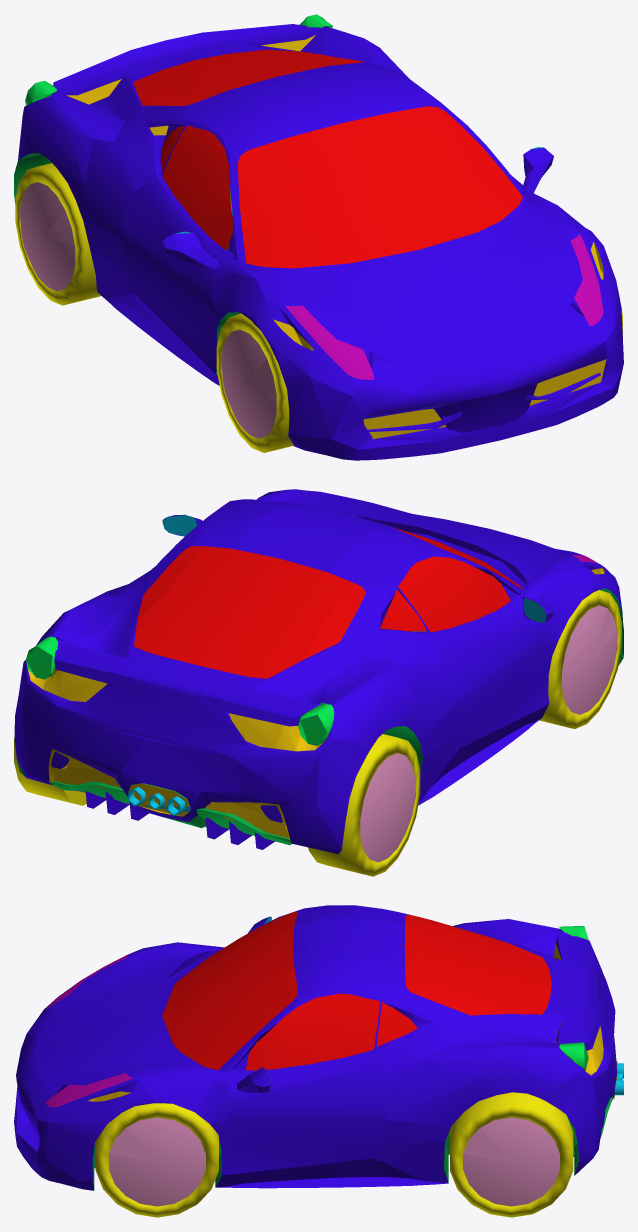
The model's file is Car13_Low_ColorCoded.fbx.
3 views of the same model, one above another, from view 1: azimuth 30°, elevation 25°; view 2: azimuth 150°, elevation 25°; view 3: azimuth 270°, elevation 25° (orthographic). The views are drawn at different scales.
Visible parts, largest first — view 1: carBody_low, tireBackR_low, tireFrontR_low; view 2: carBody_low, tireBackR_low, tireFrontR_low, tireBackL_low; view 3: carBody_low, tireBackL_low, tireFrontL_low.
Boxes of the visible parts, <box> form: carBody_low: <box>14,14,623,460</box>; tireBackR_low: <box>15,163,101,305</box>; tireFrontR_low: <box>216,313,293,452</box>; carBody_low: <box>14,489,623,854</box>; tireBackR_low: <box>308,734,420,876</box>; tireFrontR_low: <box>539,590,621,728</box>; tireBackL_low: <box>14,737,86,805</box>; carBody_low: <box>14,905,623,1190</box>; tireBackL_low: <box>450,1092,573,1217</box>; tireFrontL_low: <box>95,1103,218,1217</box>.
Bounding box in the file's own units: 71.47 × 111 × 41.09.
